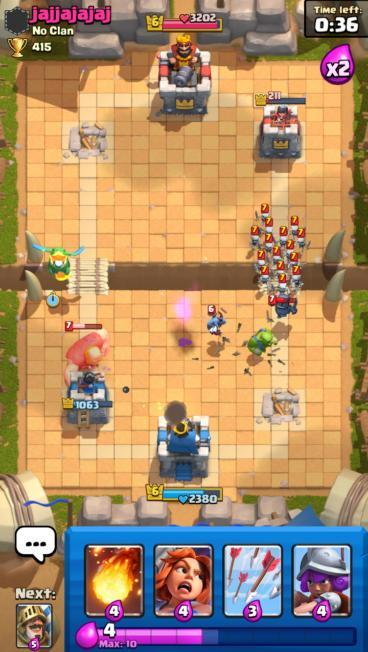ally_baby_dragon: (36, 242, 86, 282)
enemy_giant: (61, 320, 113, 379)
enemy_mini_pekka: (267, 292, 299, 320)
enemy_minion: (204, 304, 228, 337)
enemy_skeleton: (251, 247, 270, 274), (256, 264, 273, 291), (289, 264, 306, 291), (247, 225, 263, 252), (273, 273, 290, 298), (294, 227, 310, 253), (256, 202, 272, 226), (288, 214, 303, 239), (270, 244, 285, 269), (287, 251, 303, 274), (261, 231, 276, 255), (277, 225, 291, 250), (262, 216, 276, 241), (273, 260, 288, 283), (284, 239, 298, 263)
